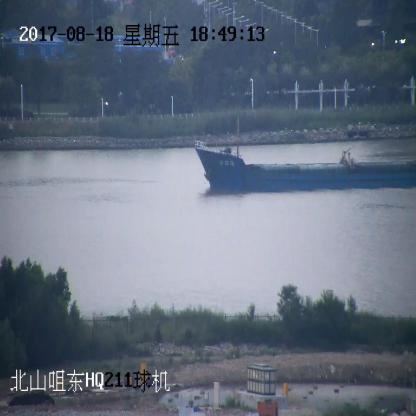Bulk Carrier: (195, 141, 416, 191)
